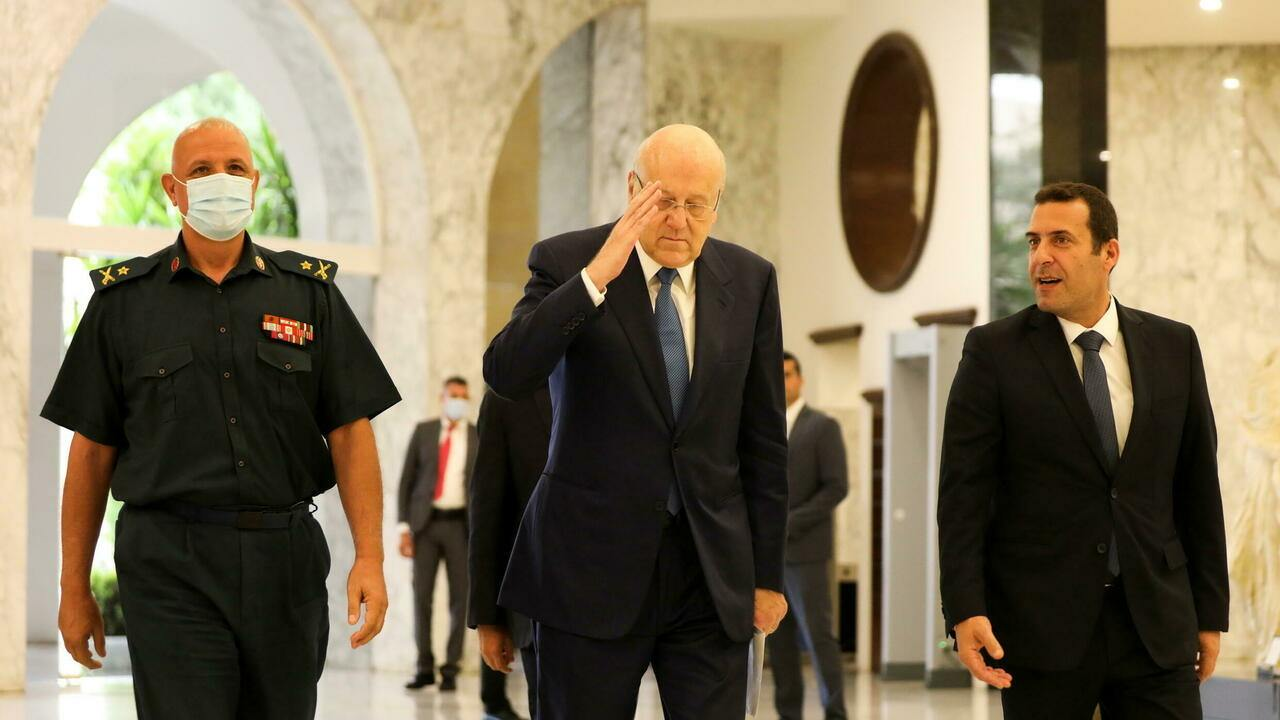with_mask: (178, 143, 254, 230)
without_mask: (648, 168, 717, 262), (1026, 220, 1086, 306)
